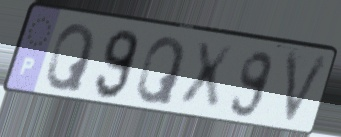9: (91, 26, 142, 102), (229, 49, 275, 119)
Q: (133, 35, 188, 108), (43, 22, 98, 95)
V: (279, 49, 335, 131)
X: (176, 40, 237, 114)
